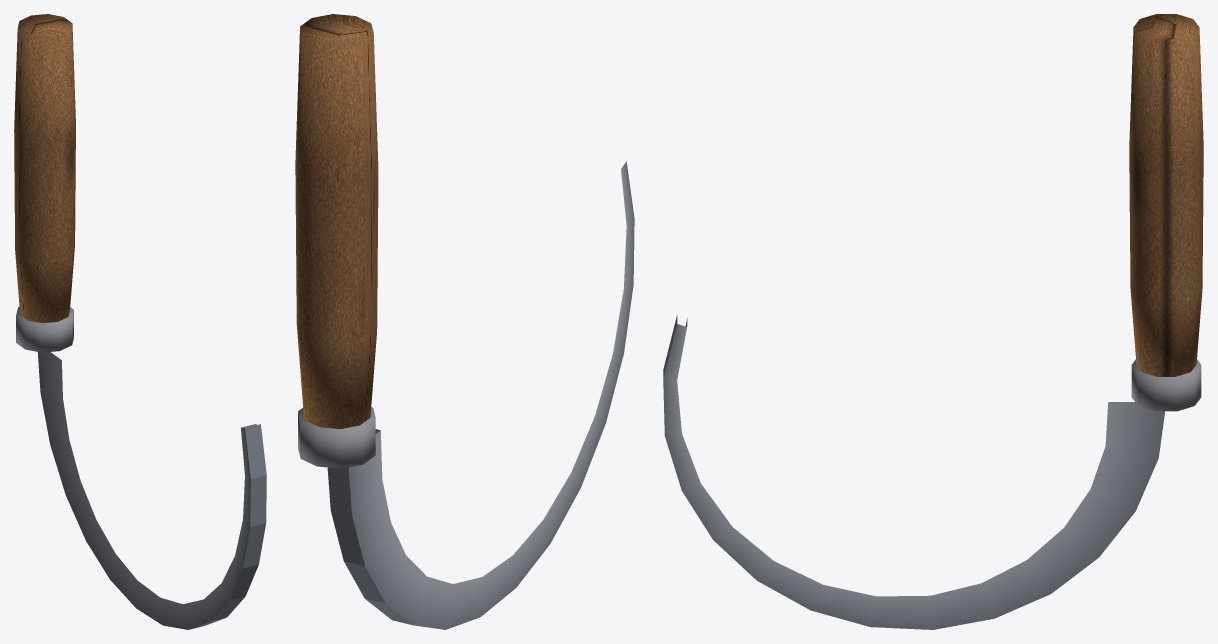
Rendered from sickle.glb.
The picture shows the model from 3 angles, left to right: view 1: azimuth 30°, elevation 25°; view 2: azimuth 150°, elevation 25°; view 3: azimuth 270°, elevation 25°; orthographic projection. The views are drawn at different scales.
Parts seen in each view (by area): view 1: sickle.handle, sickle.blade; view 2: sickle.handle, sickle.blade; view 3: sickle.blade, sickle.handle.
Boxes of the visible parts, bbox=[...] form: sickle.handle: bbox=[14, 14, 75, 323]; sickle.blade: bbox=[16, 307, 266, 629]; sickle.handle: bbox=[295, 14, 378, 428]; sickle.blade: bbox=[298, 161, 634, 629]; sickle.blade: bbox=[663, 315, 1201, 629]; sickle.handle: bbox=[1129, 14, 1203, 376].
Size of the model in its own units: 0.1179 by 1.1 by 0.8999.
2 materials, 1 textured.
